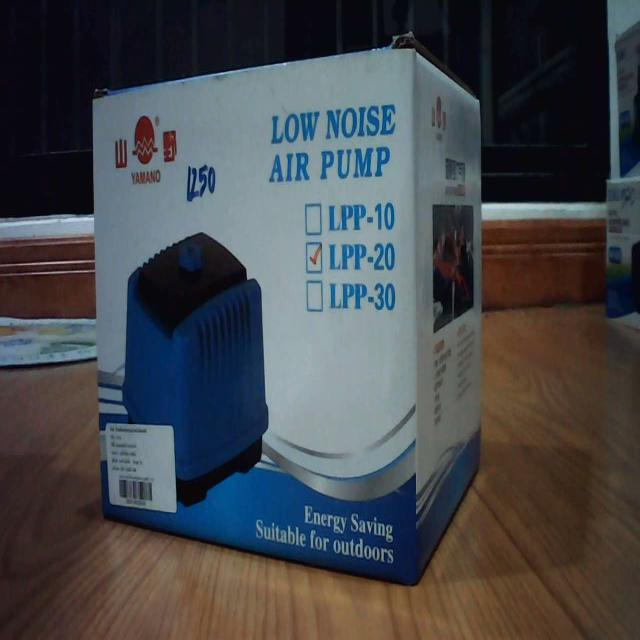YAMANO_LPP_20: (80, 19, 490, 601)
